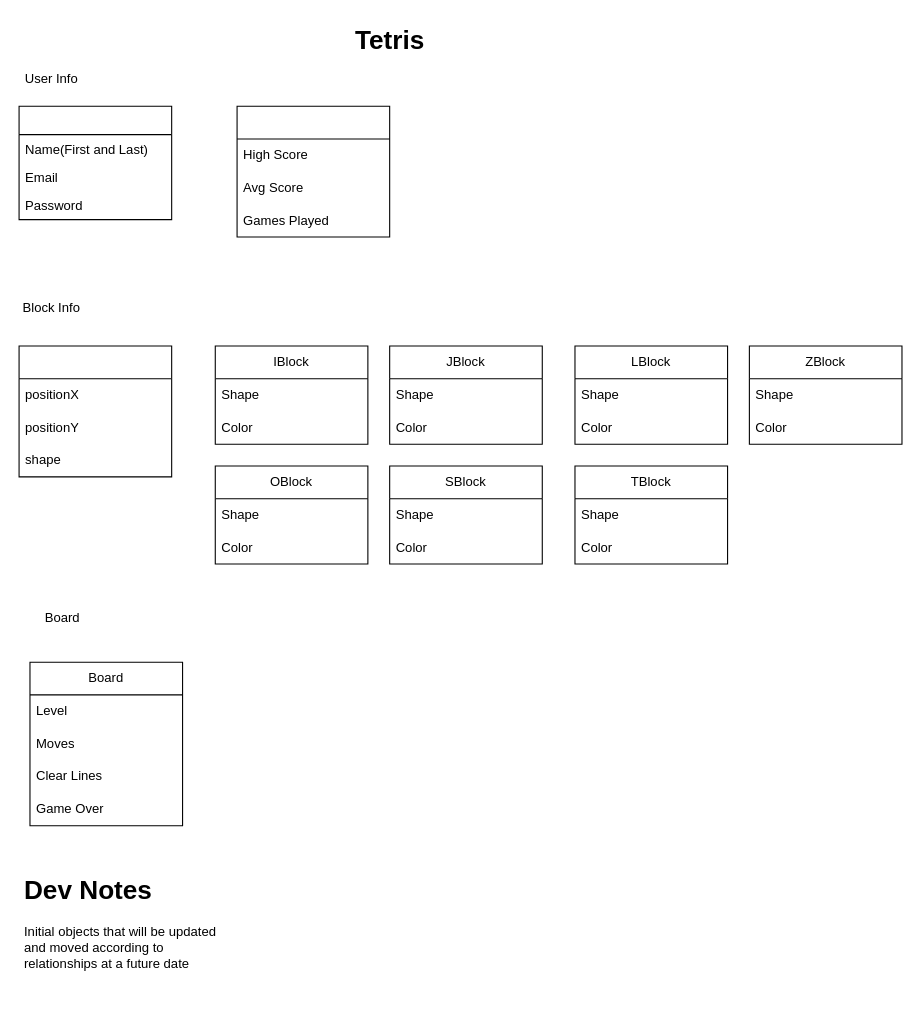
This 921x1018 diagram has some shape labels left out. Here are the shapes that lost their labels. From the top down, the box of each, then its label:
(18, 105, 172, 220): Users
(236, 105, 390, 237): Stats
(18, 345, 172, 477): Active Block
